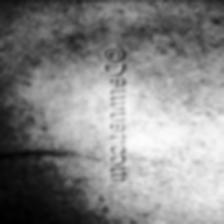Unclassified: (10, 139, 42, 165)
